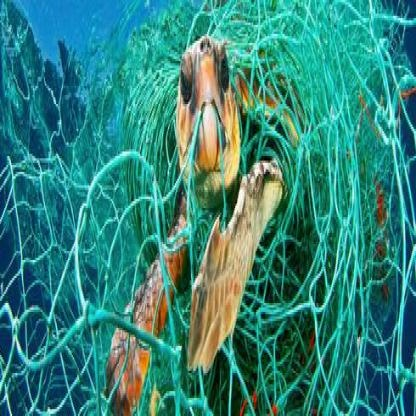net: (4, 11, 416, 416)
